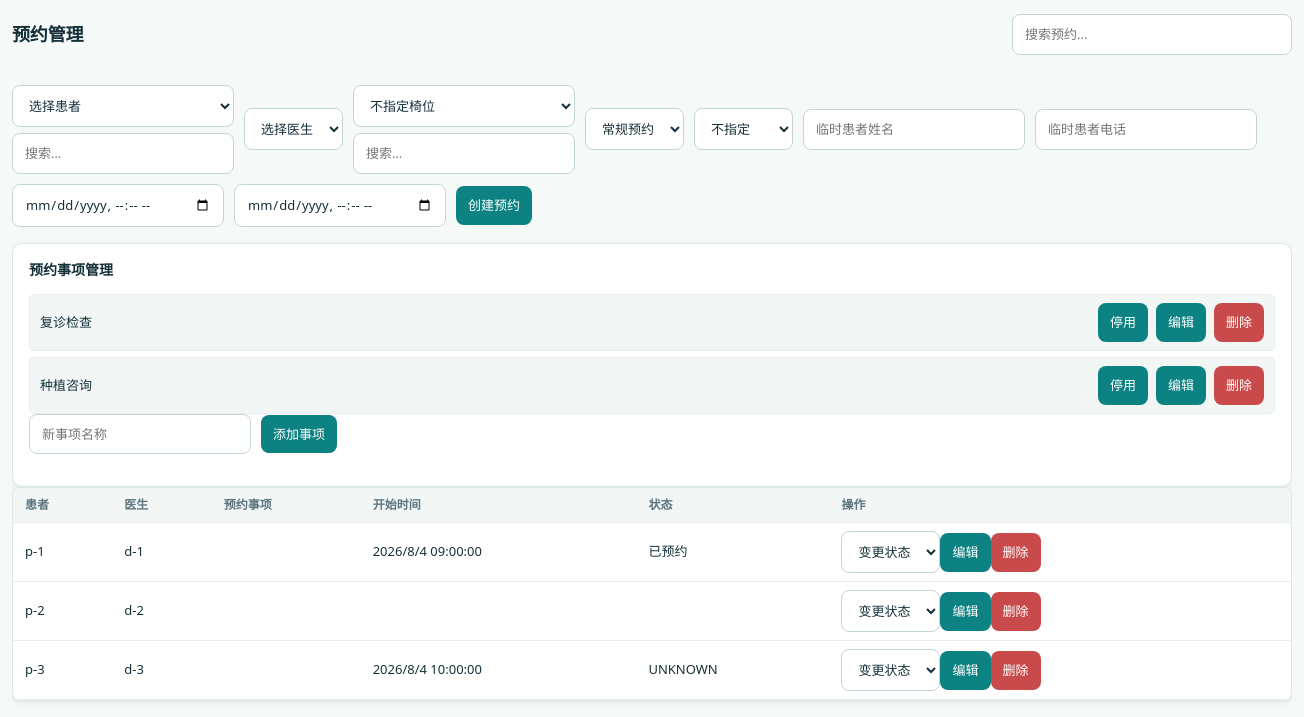
Test: AppointmentsPage › rejects an appointment whose end time is not later than start time
The image size is (1304, 717).
Expected: the heading "预约管理" is shown, [12, 21, 83, 48]
Select "患者甲" in the dropdown named "患者" at (123, 106), box [12, 85, 234, 127]
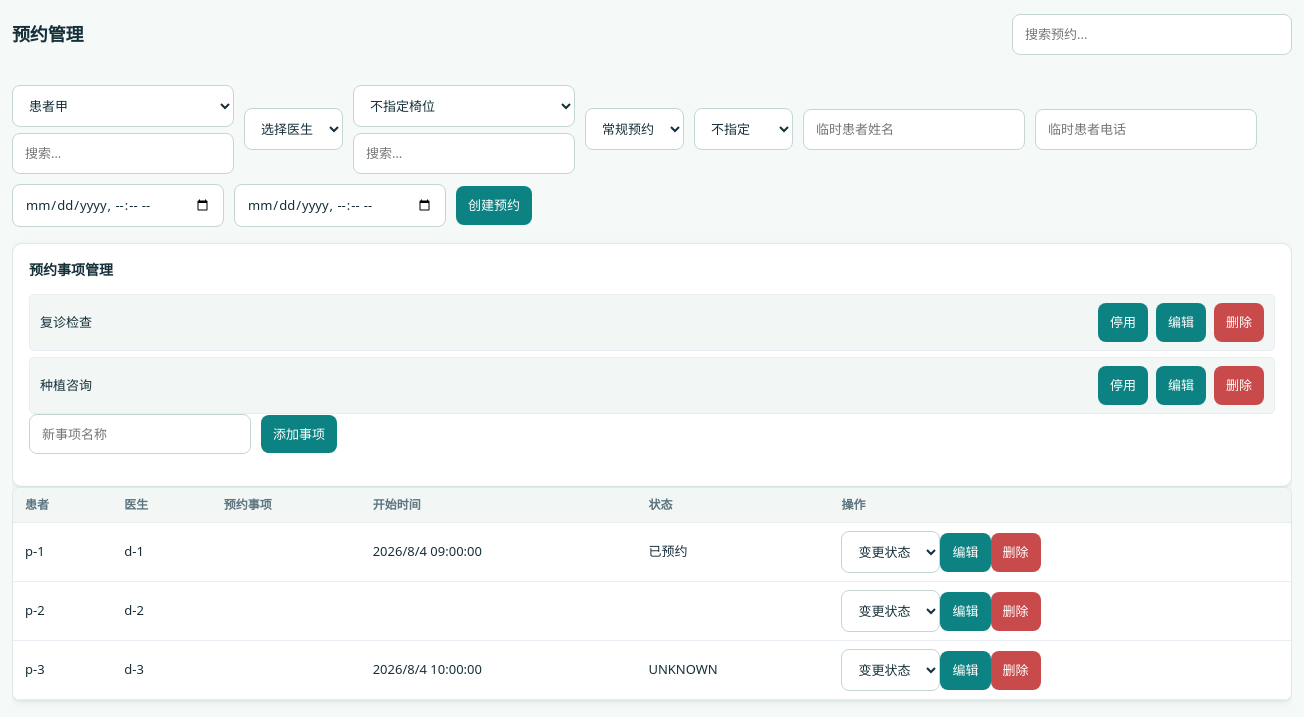
Select "张医生" in the dropdown named "医生" at (294, 129), box [244, 108, 343, 150]
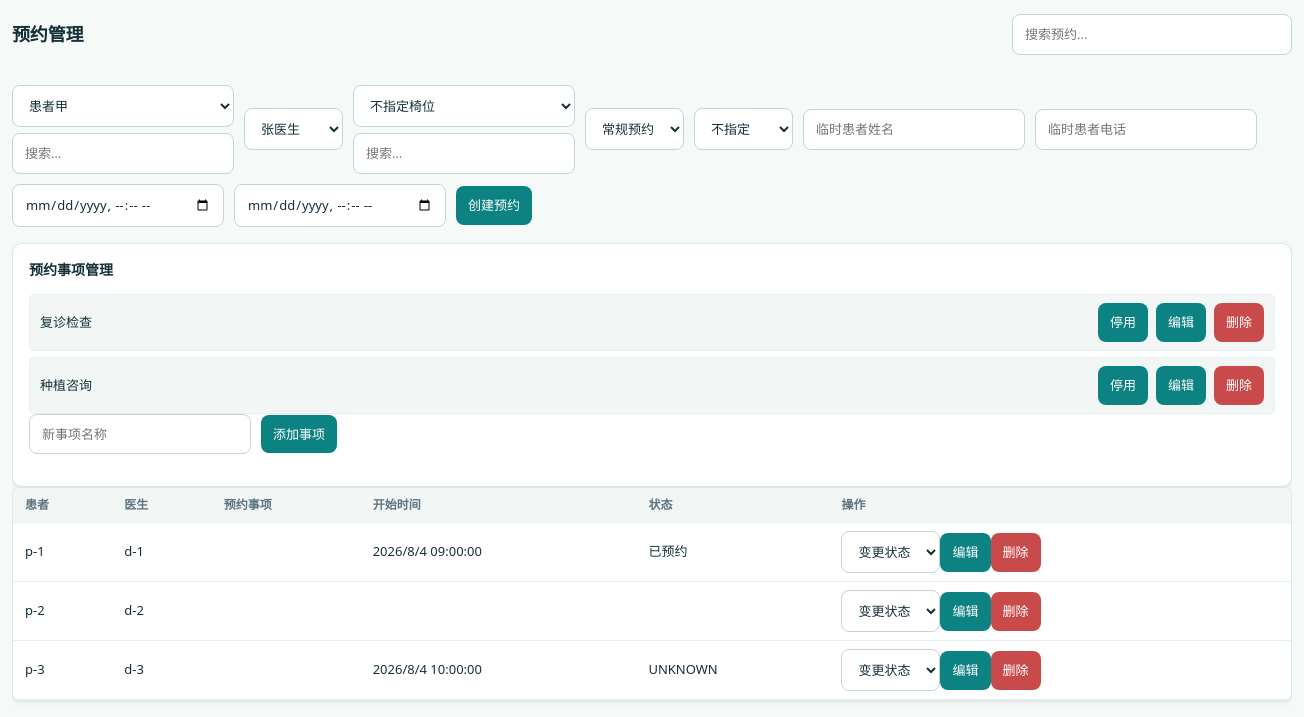
Type "2026-08-05T10:00" into the field named "开始时间".
click(118, 205); type("2026-08-05T10:00")  # box [12, 184, 224, 226]
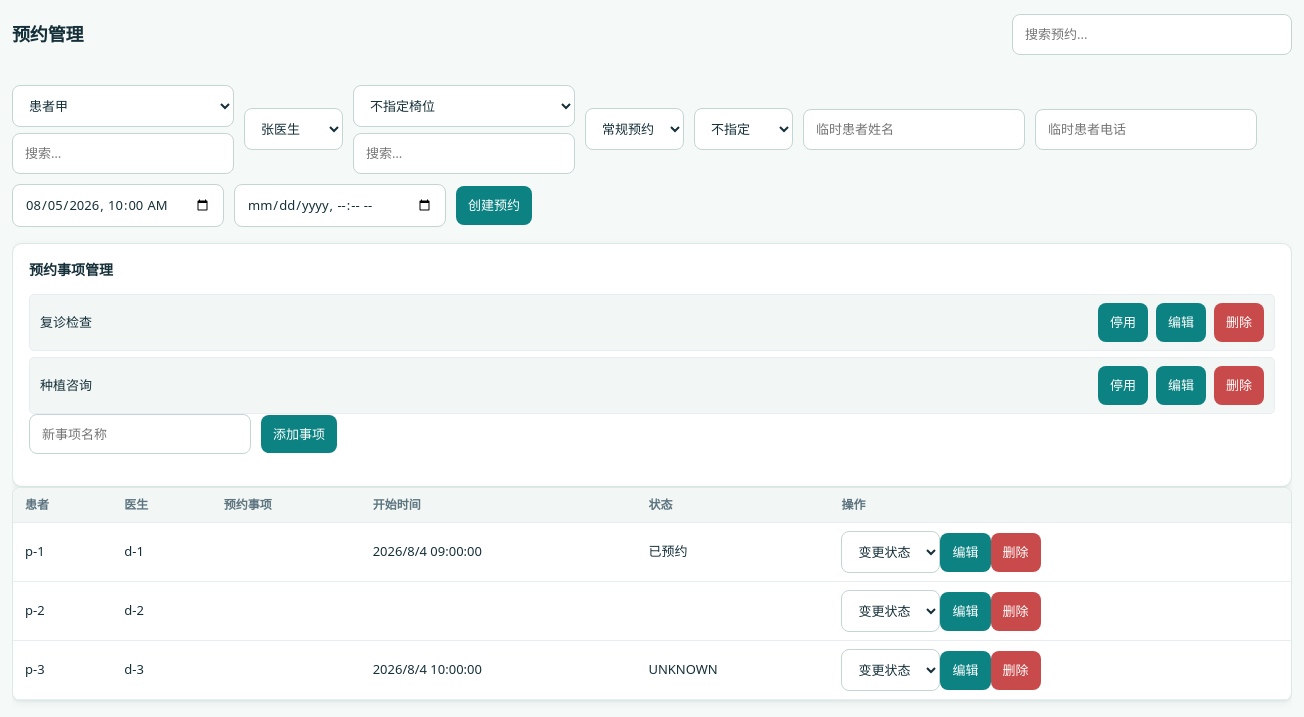
Type "2026-08-05T09:00" into the field named "结束时间".
click(340, 205); type("2026-08-05T09:00")  # box [234, 184, 446, 226]
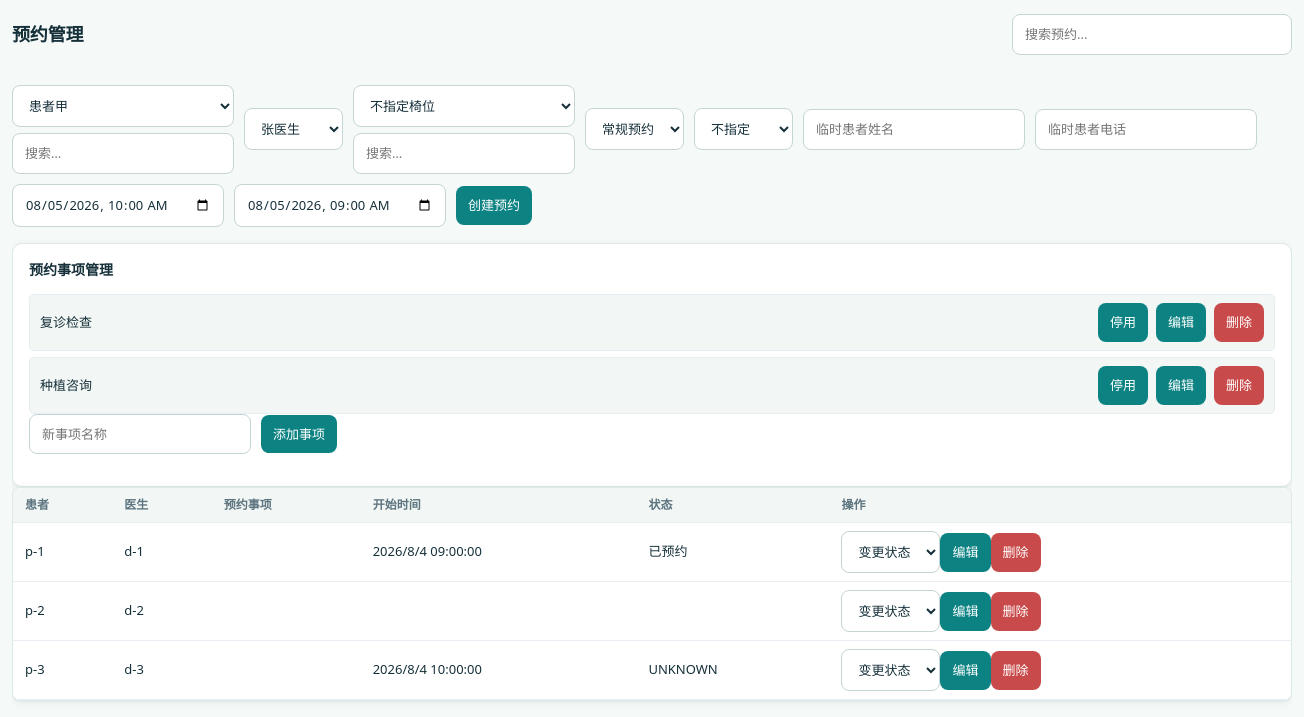
Click the button "创建预约".
click(494, 205)  # box [456, 186, 532, 224]
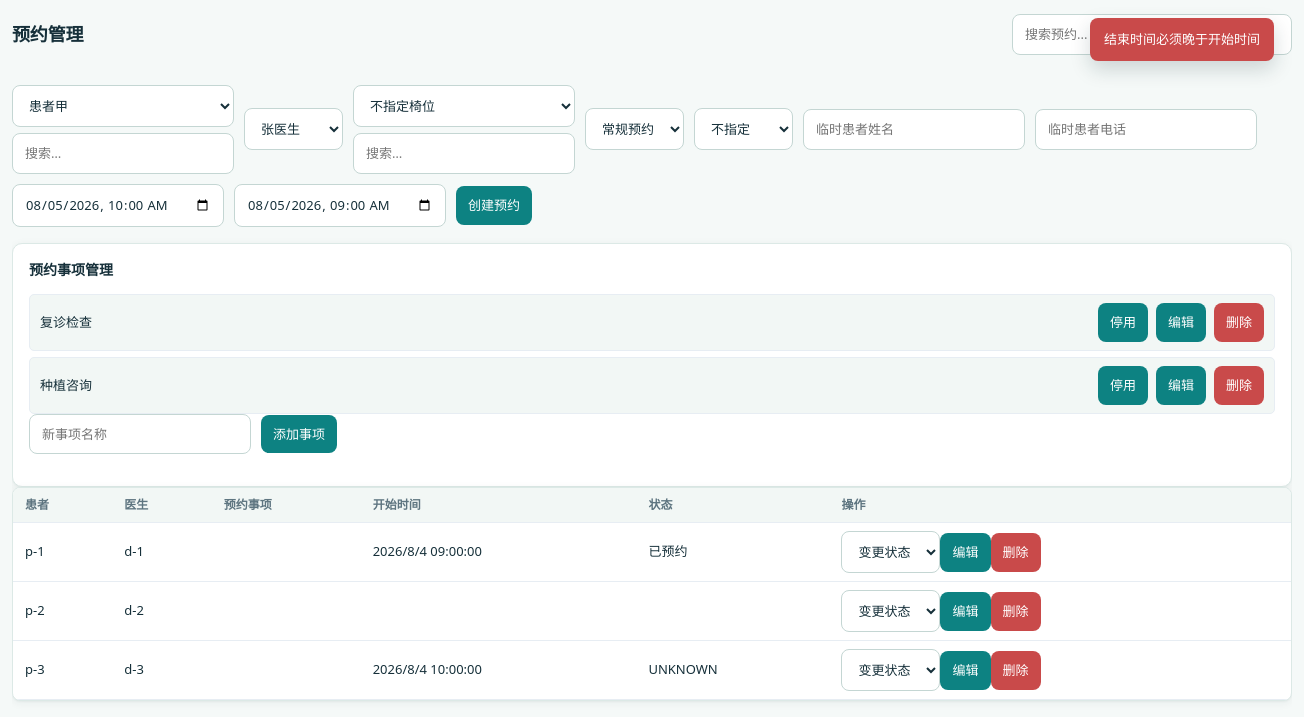
Expected: the text "结束时间必须晚于开始时间" is shown, [1090, 18, 1274, 61]
